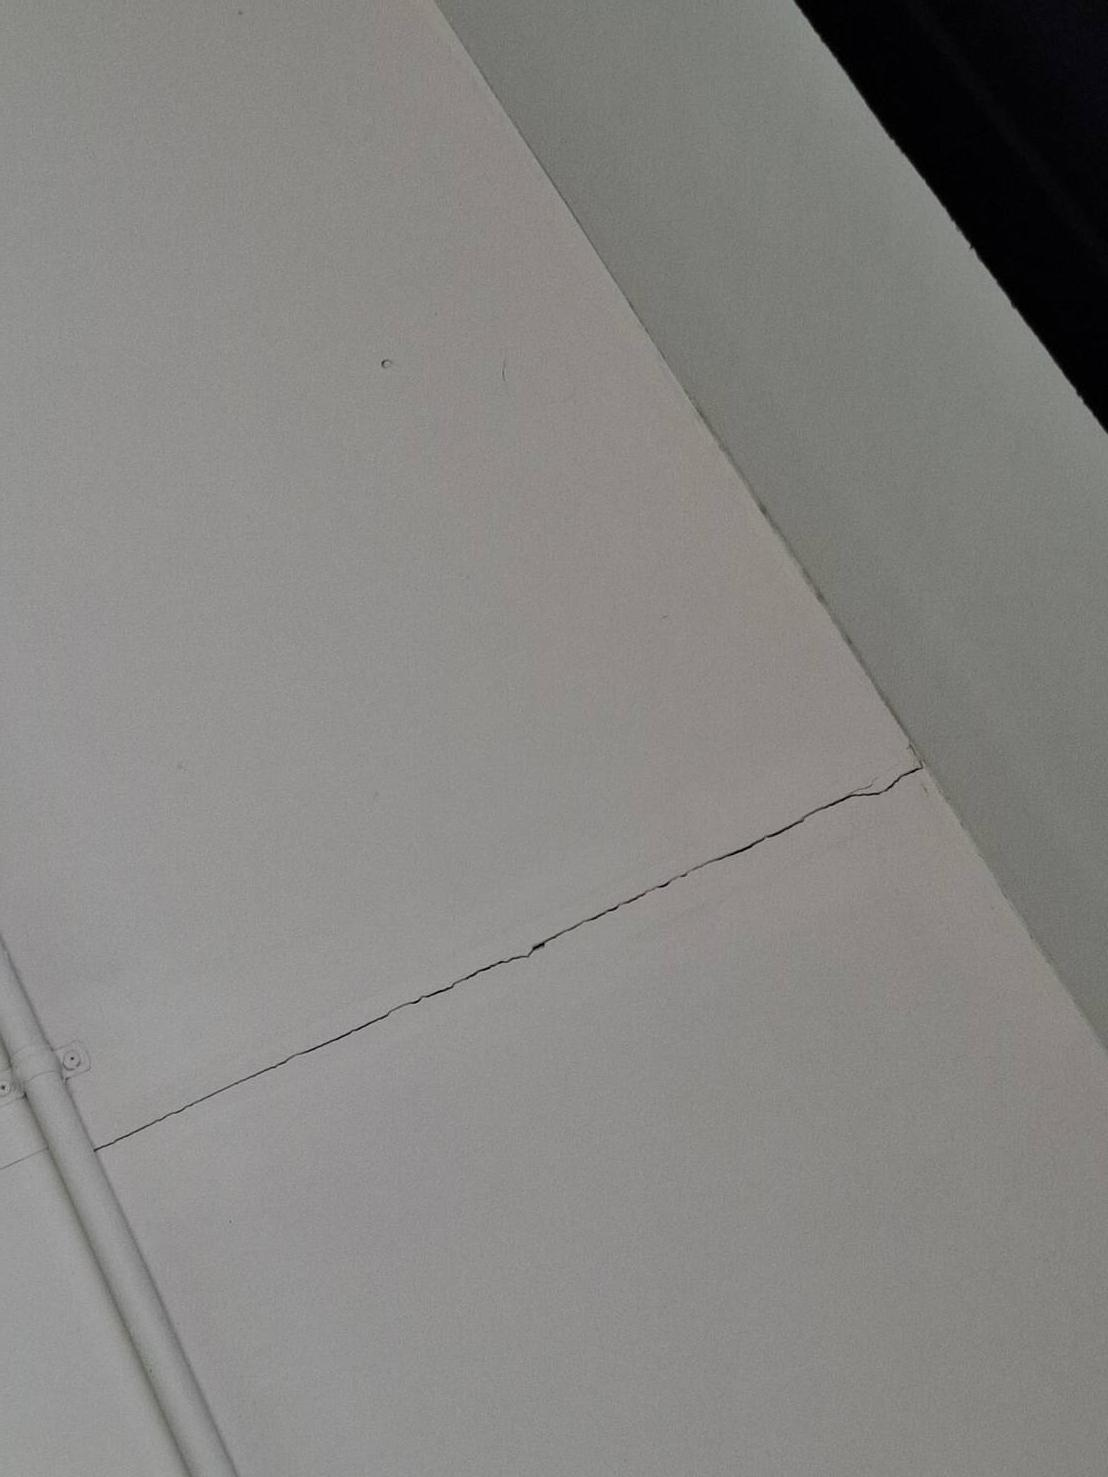Low: (105, 693, 937, 1172)
